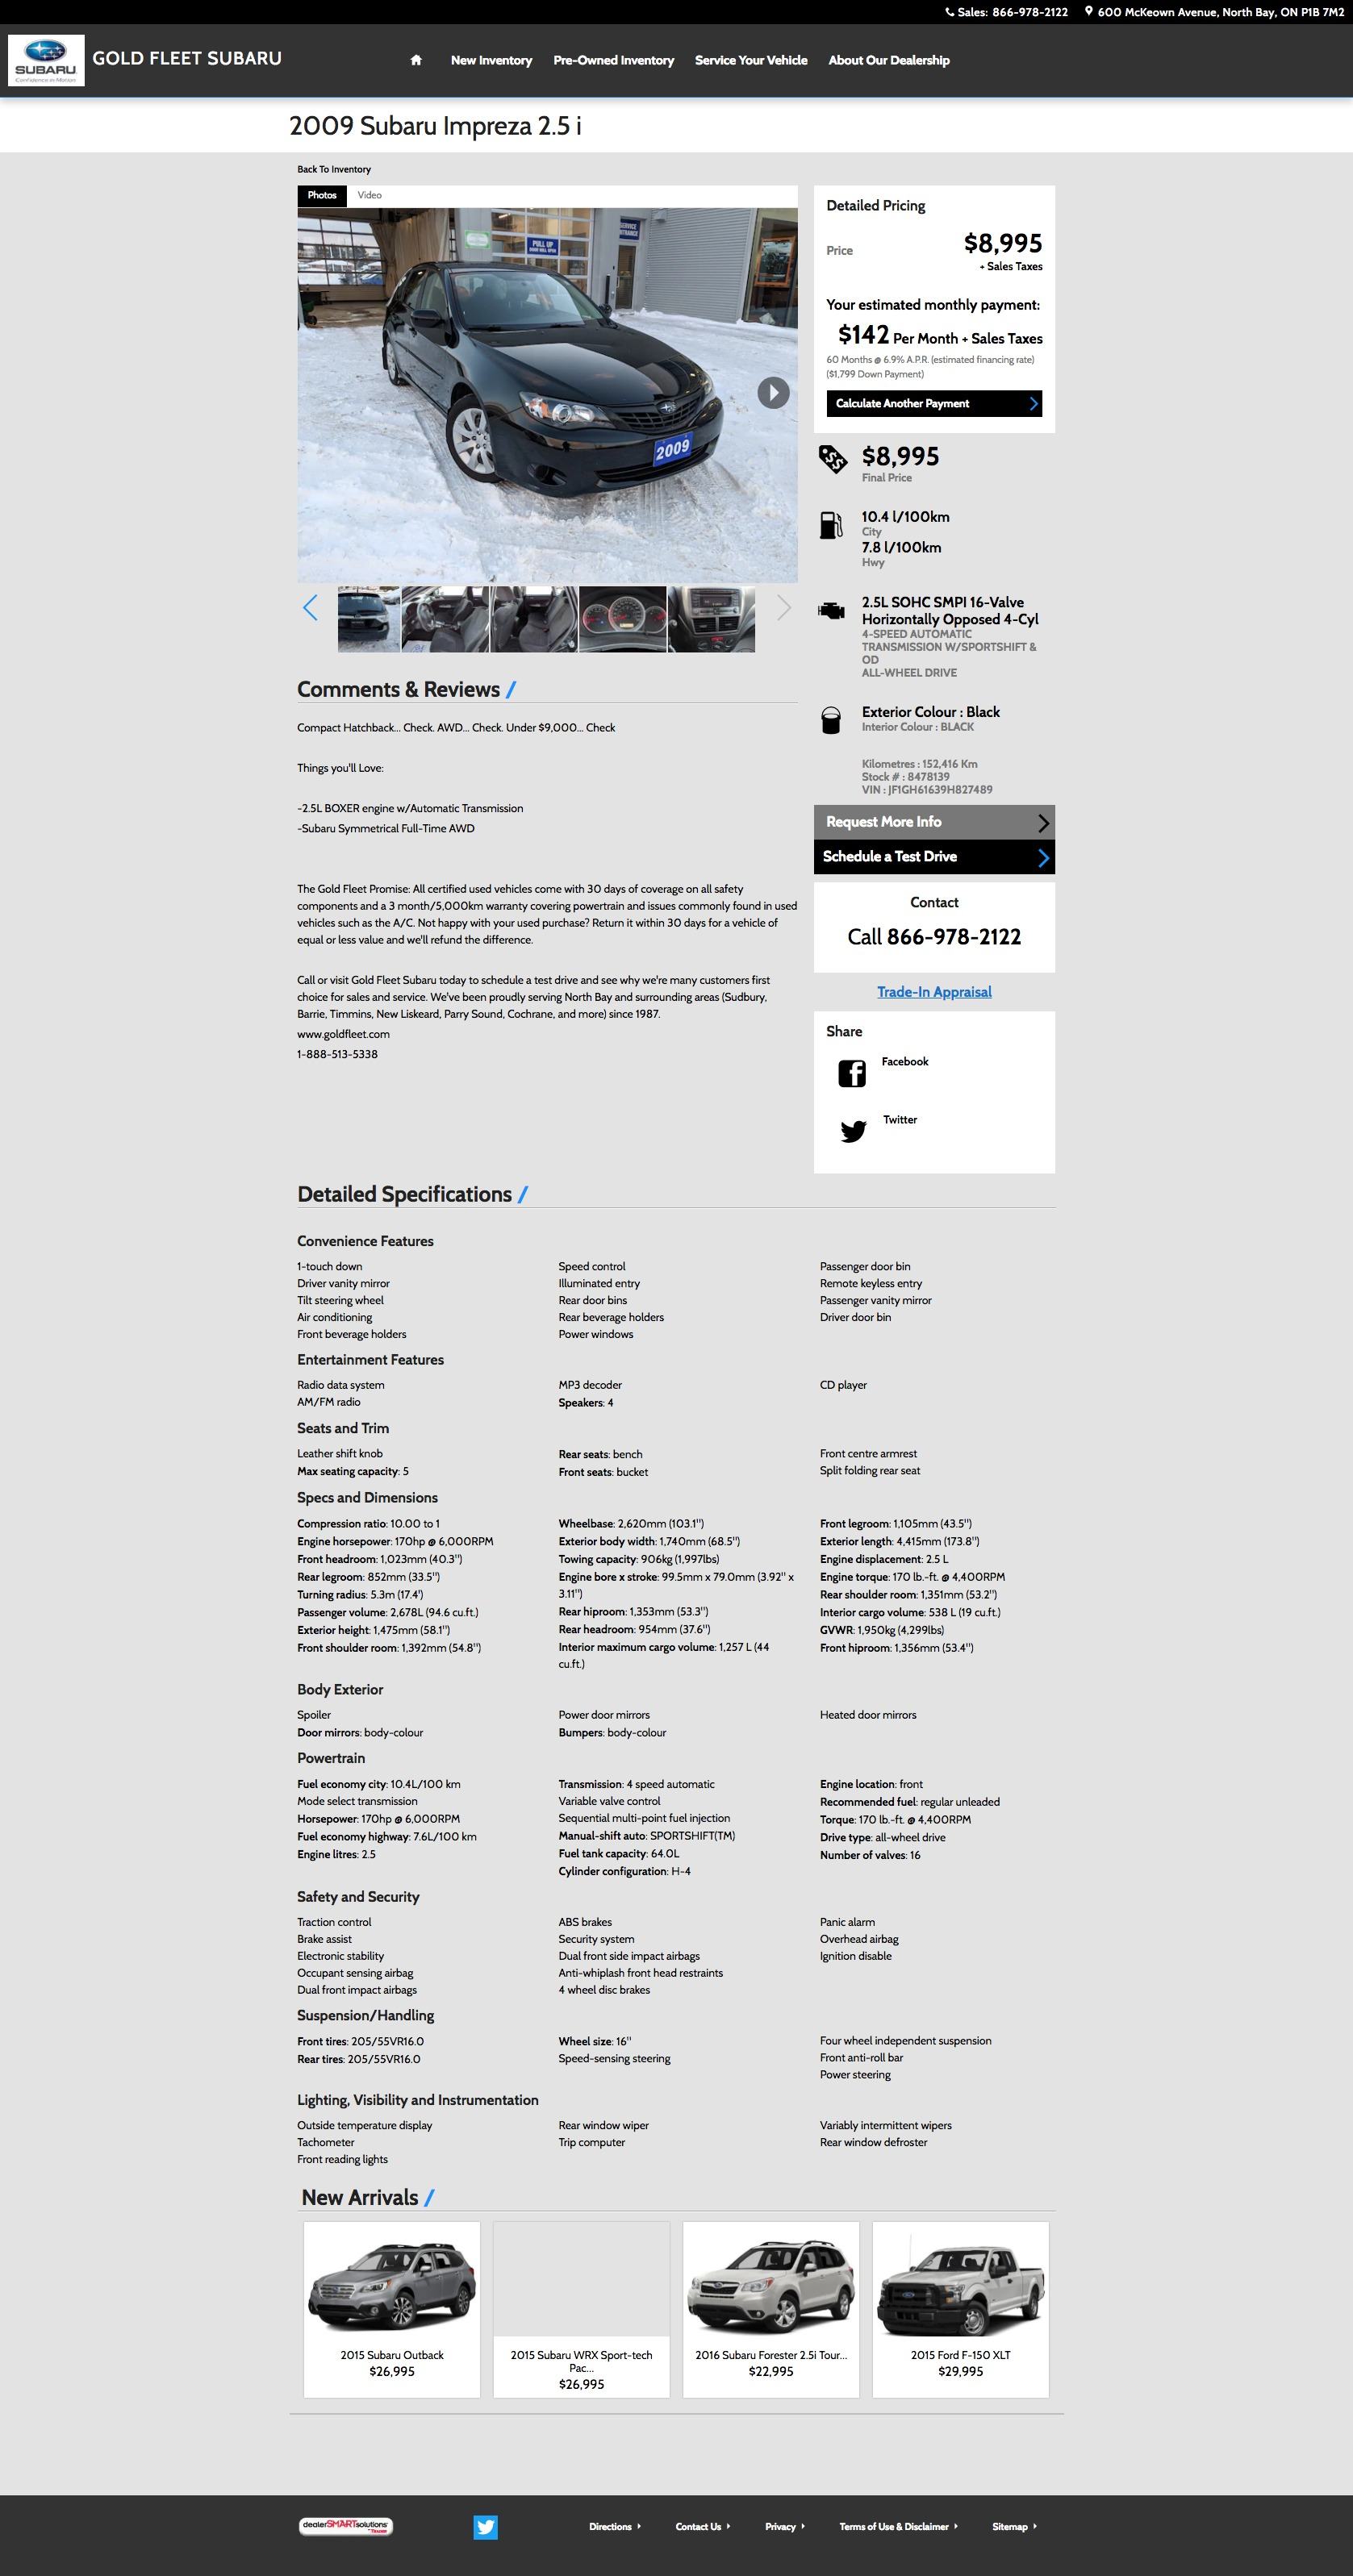car: (777, 595, 792, 622)
